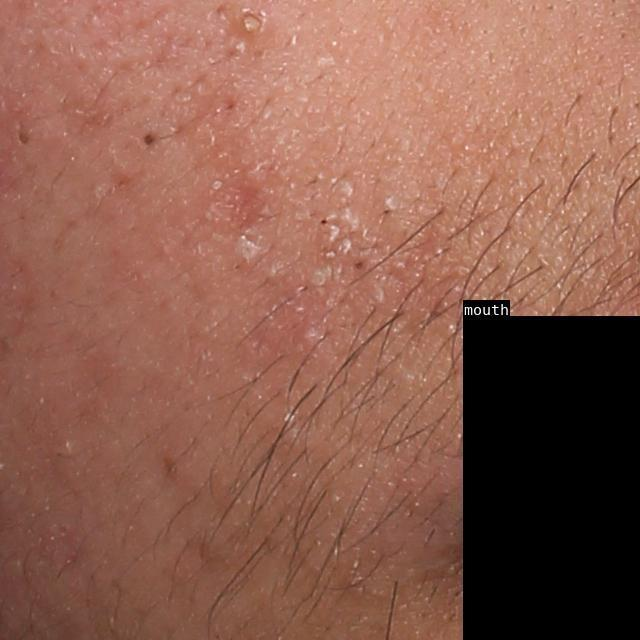comedo: (291, 320, 326, 356), (141, 132, 160, 150)
